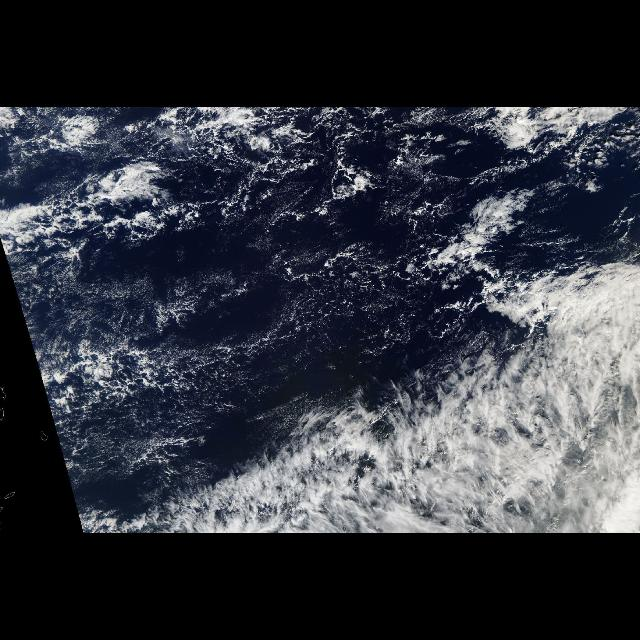Gravel: (12, 132, 386, 228)
Sugar: (24, 262, 268, 342)
